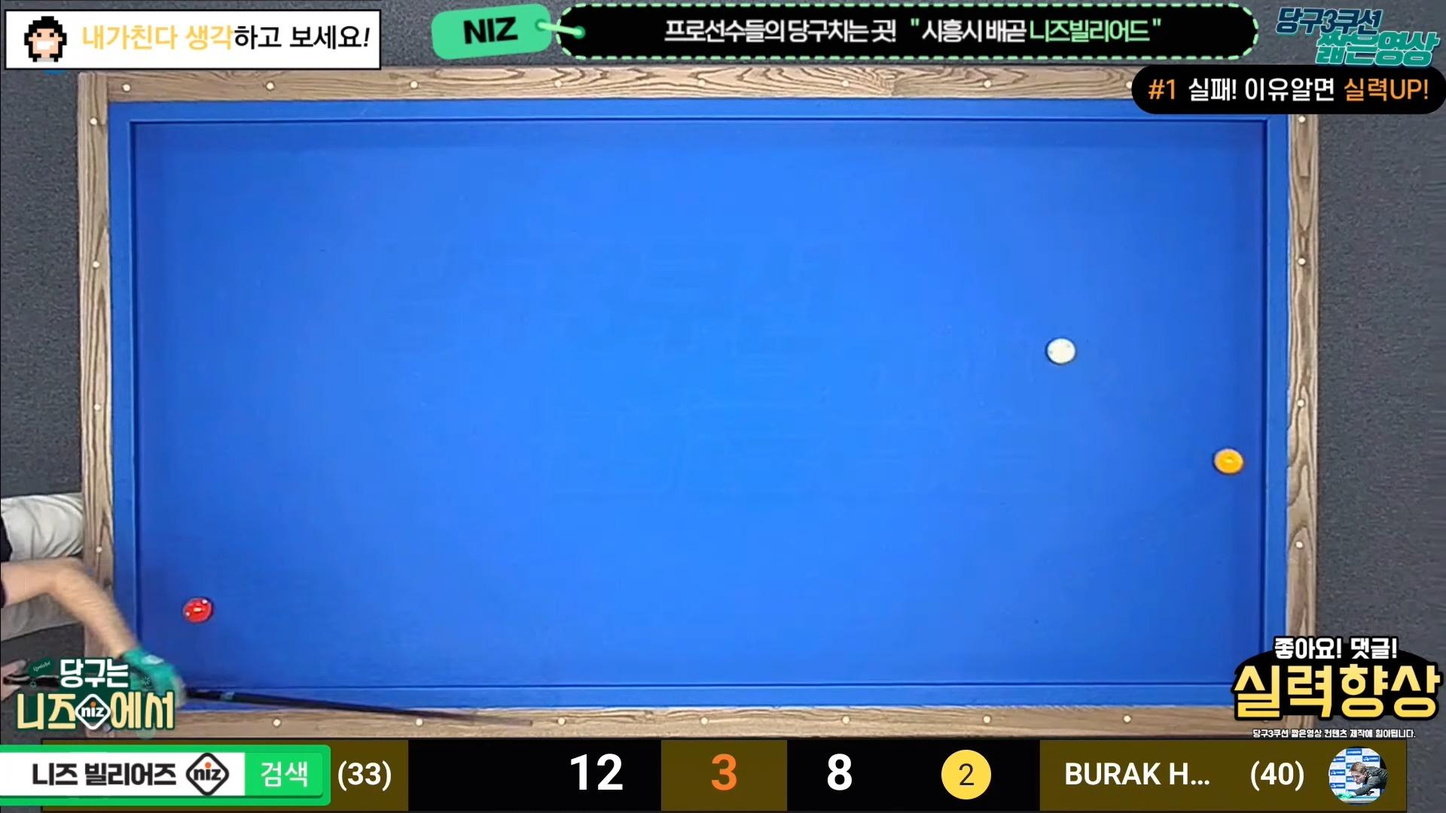billiard-ball-Red: (178, 594, 215, 626)
billiard-ball-Yellow: (1215, 444, 1244, 477)
billiard-ball-white: (1045, 336, 1075, 365)
